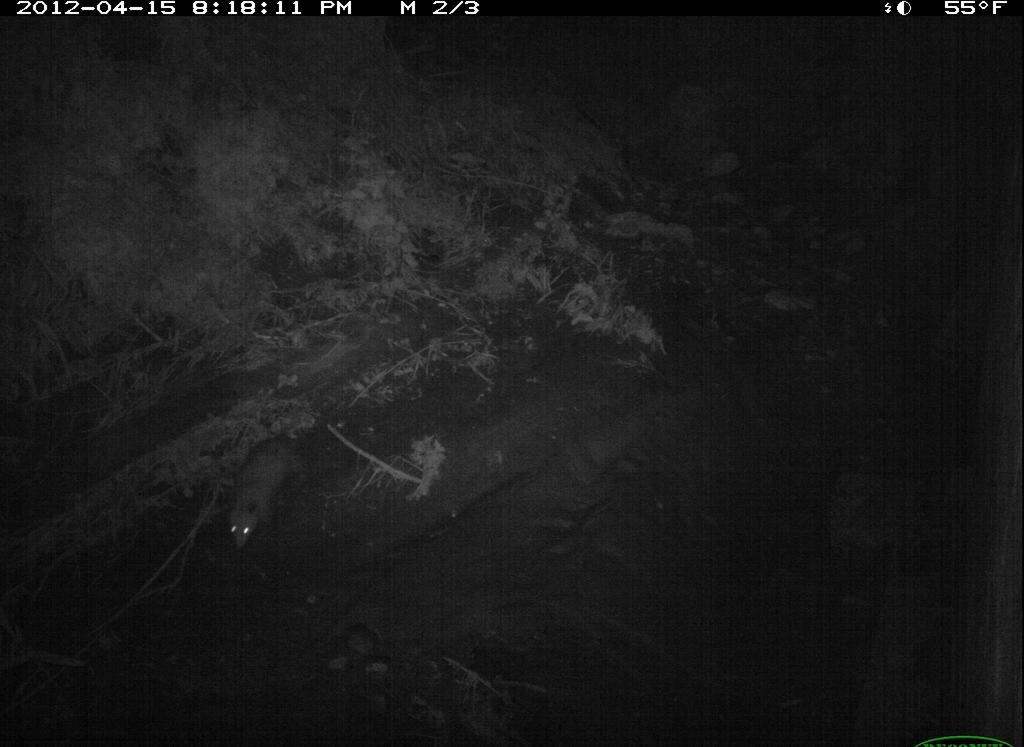opossum: (204, 422, 331, 561)
